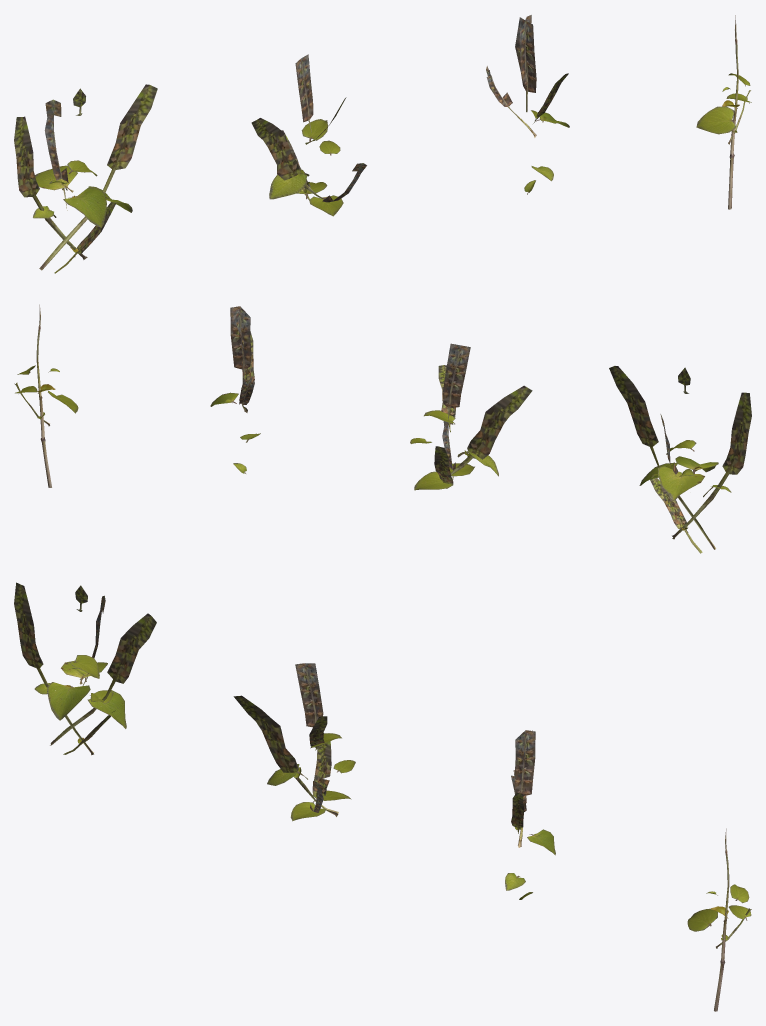
The model's file is shrub_03.glb.
3 views of the same model, one above another, from view 1: azimuth 30°, elevation 25°; view 2: azimuth 150°, elevation 25°; view 3: azimuth 330°, elevation 25° (orthographic). The views are drawn at different scales.
Visible parts, largest first — view 1: shrub_03_a, shrub_03_b, shrub_03_c, shrub_03_d; view 2: shrub_03_a, shrub_03_b, shrub_03_c, shrub_03_d; view 3: shrub_03_a, shrub_03_b, shrub_03_c, shrub_03_d.
Boxes of the visible parts, box(x1,y1,x2,y2) form: shrub_03_a: box(14, 84, 157, 273); shrub_03_b: box(251, 54, 366, 216); shrub_03_c: box(486, 15, 569, 194); shrub_03_d: box(696, 15, 751, 209); shrub_03_a: box(609, 366, 751, 553); shrub_03_b: box(410, 343, 532, 490); shrub_03_c: box(210, 306, 260, 473); shrub_03_d: box(14, 304, 78, 487); shrub_03_a: box(14, 582, 156, 755); shrub_03_b: box(233, 663, 355, 821); shrub_03_c: box(505, 730, 555, 899); shrub_03_d: box(687, 828, 751, 1011).
Bounding box in the file's own units: 1.37 × 0.4934 × 0.1695.
Materials: 1 (1 with a texture image).
